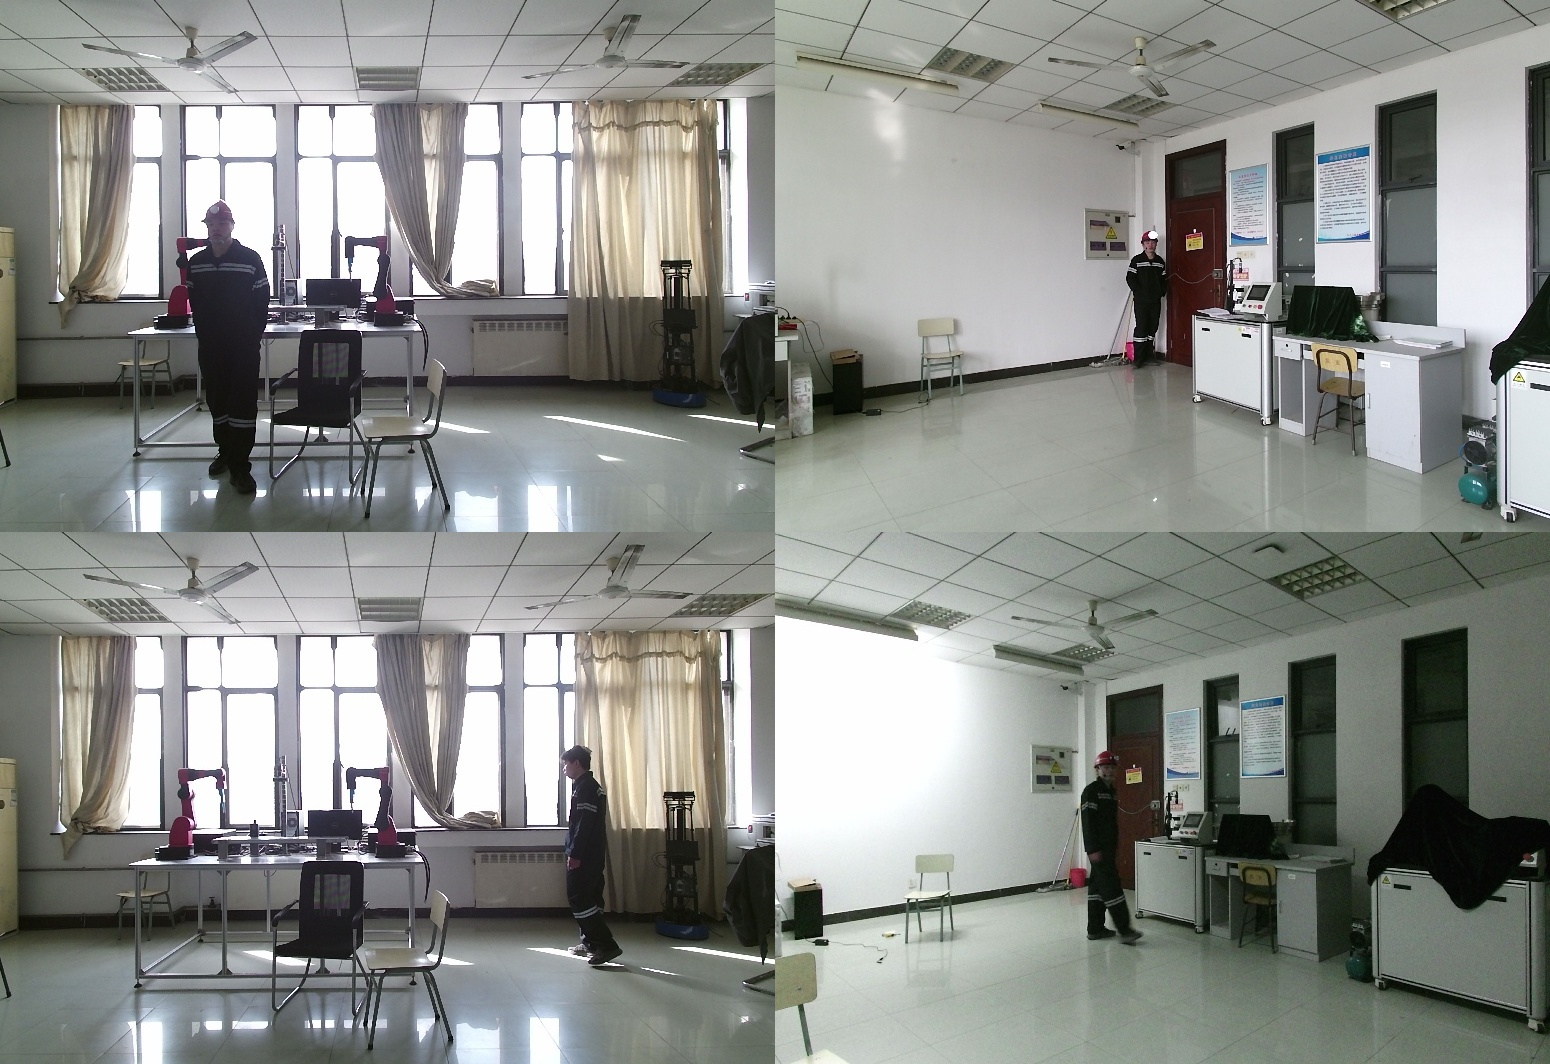person: (181, 202, 270, 486), (561, 745, 622, 966), (1078, 752, 1133, 954), (1124, 232, 1167, 371)
